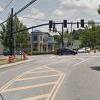Traffic light: (43, 14, 87, 38)
